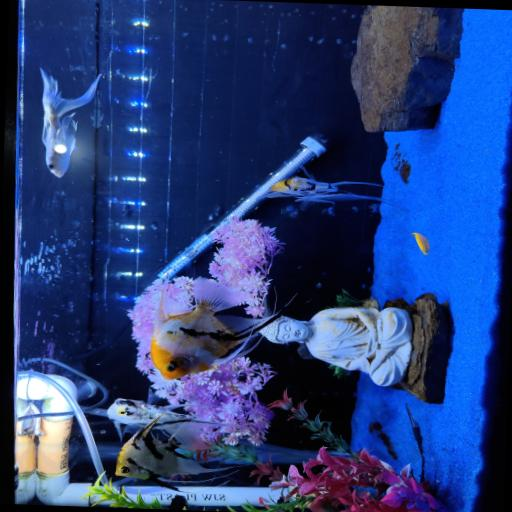Fish: (151, 278, 278, 379), (116, 417, 231, 490), (41, 69, 101, 177), (267, 168, 403, 210), (107, 399, 231, 440), (411, 233, 429, 254)
